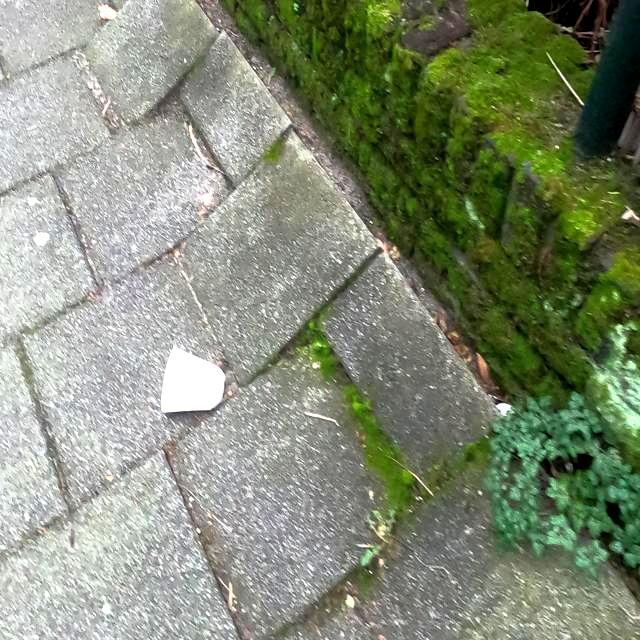Coffee Cup: (158, 346, 226, 416)
